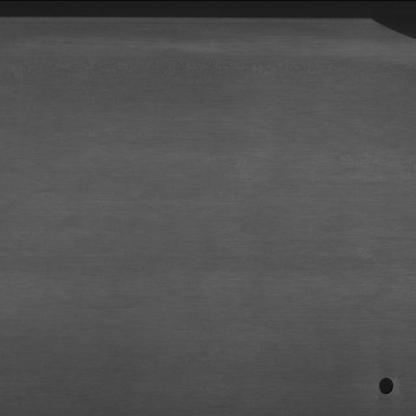crescent_gap: (364, 15, 416, 42)
punching_hole: (374, 375, 400, 397)
